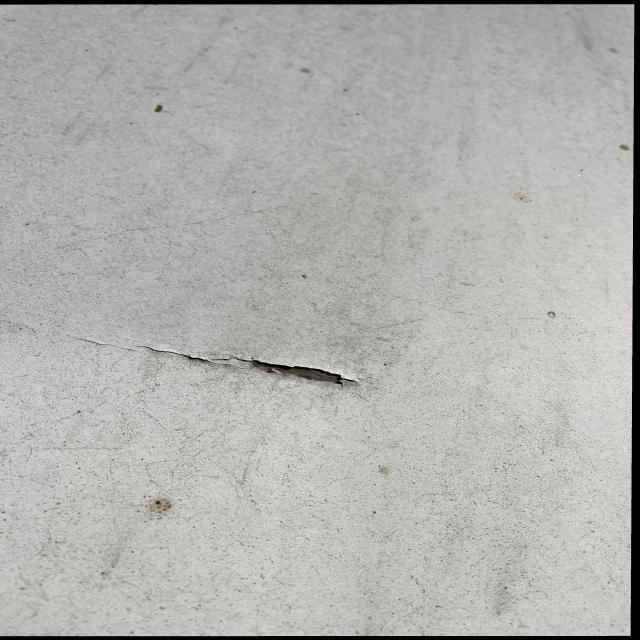crack: (172, 338, 389, 388)
